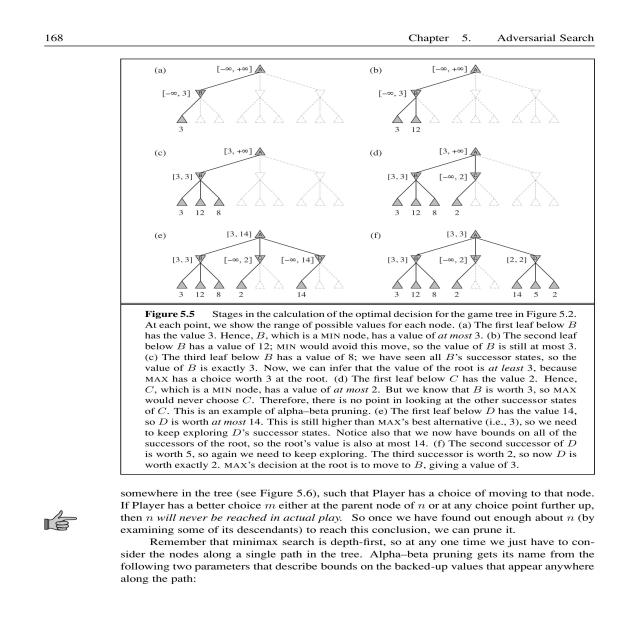diagram: (119, 57, 596, 475)
